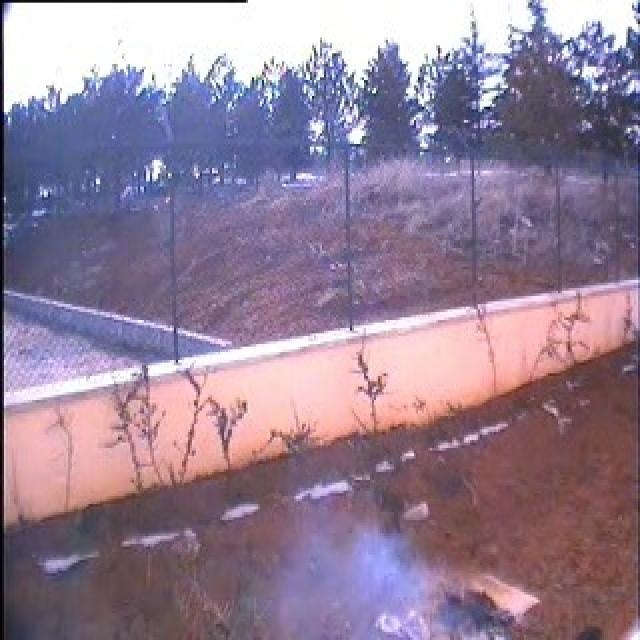Smoke: (280, 529, 430, 640)
